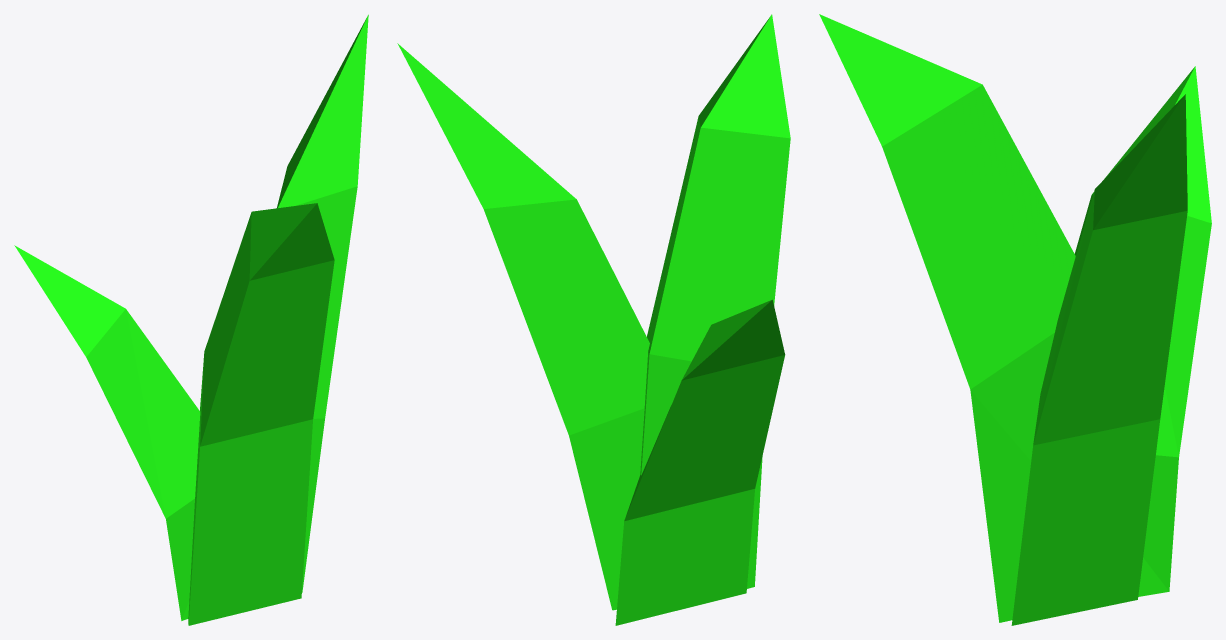
The model's file is grass2.obj.
3 views of the same model, side by side, from view 1: azimuth 30°, elevation 25°; view 2: azimuth 150°, elevation 25°; view 3: azimuth 270°, elevation 25° (orthographic). The views are drawn at different scales.
Visible parts, largest first — view 1: GrassBunch2; view 2: GrassBunch2; view 3: GrassBunch2.
Part boxes in pixels (<box>): GrassBunch2: <box>14,14,368,625</box>; GrassBunch2: <box>397,14,790,625</box>; GrassBunch2: <box>819,14,1211,625</box>.
Size of the model in its own units: 0.4666 by 0.6339 by 0.3641.
